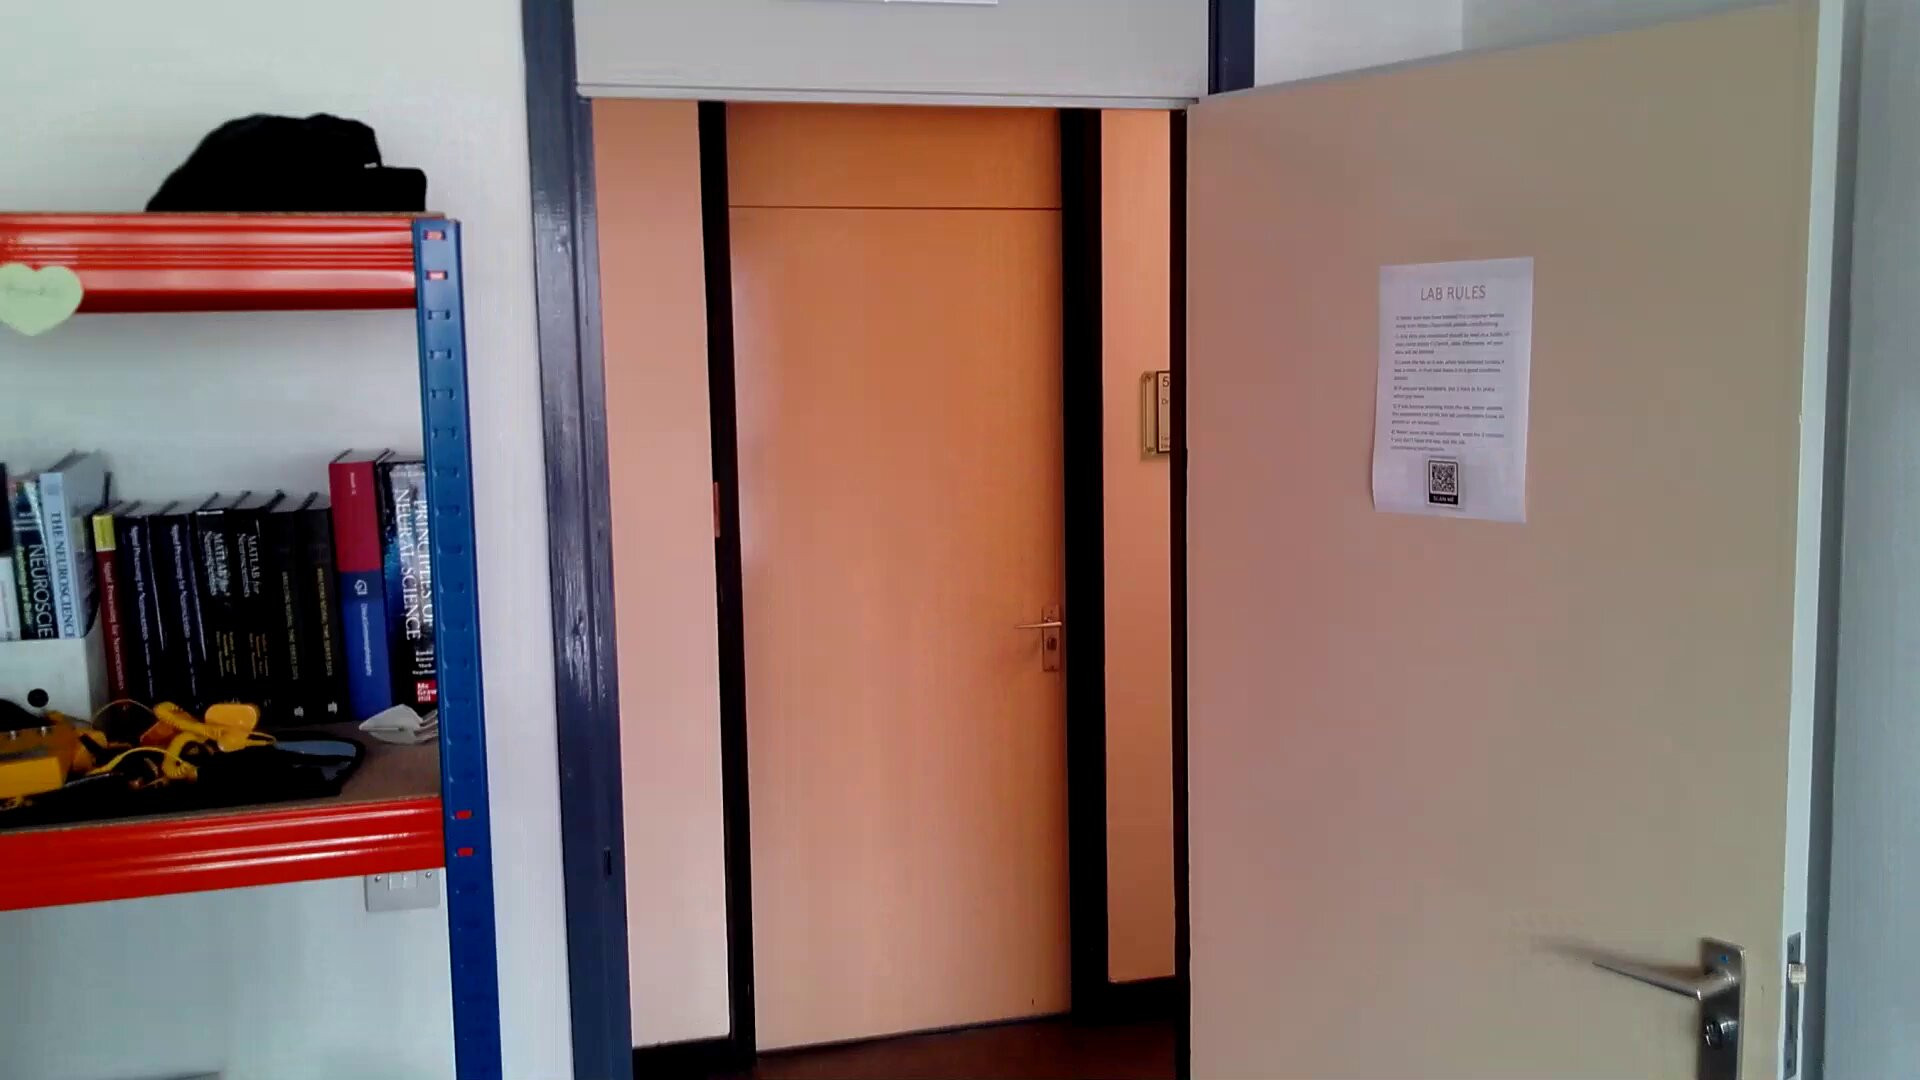Door: (1178, 38, 1837, 1080), (700, 196, 1106, 1048)
